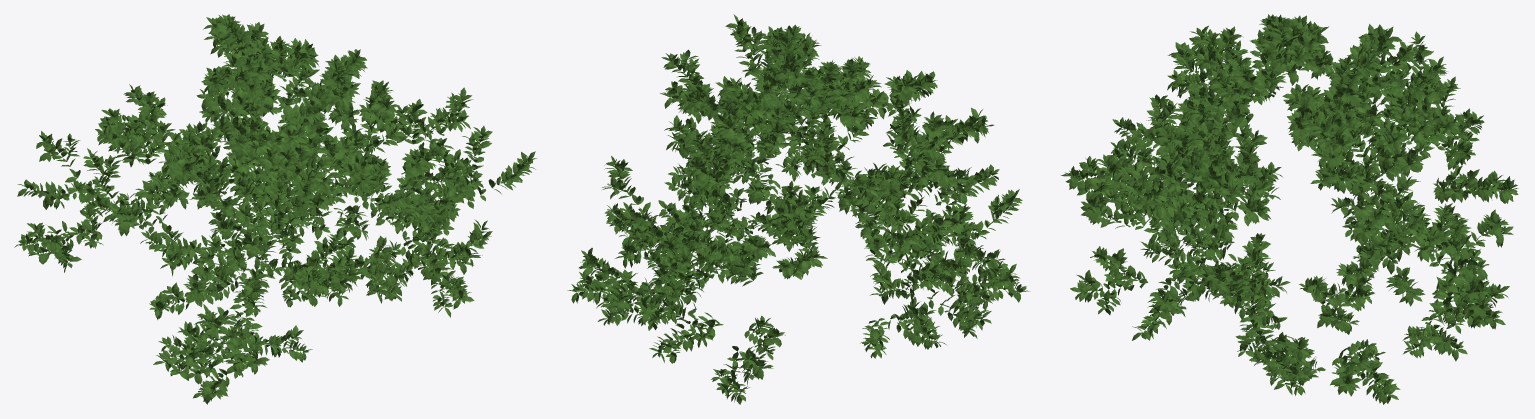
File: leaves.glb
The picture shows the model from 3 angles, left to right: view 1: azimuth 30°, elevation 25°; view 2: azimuth 150°, elevation 25°; view 3: azimuth 270°, elevation 25°; orthographic projection. The views are drawn at different scales.
Bounding box in the file's own units: 12.25 × 8.79 × 10.85.
